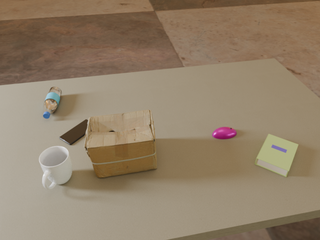book: (255, 134, 298, 177)
bottle: (43, 87, 62, 119)
box: (84, 110, 157, 178)
cup: (39, 146, 72, 189)
mouse: (212, 127, 237, 139)
phone: (59, 119, 88, 145)
